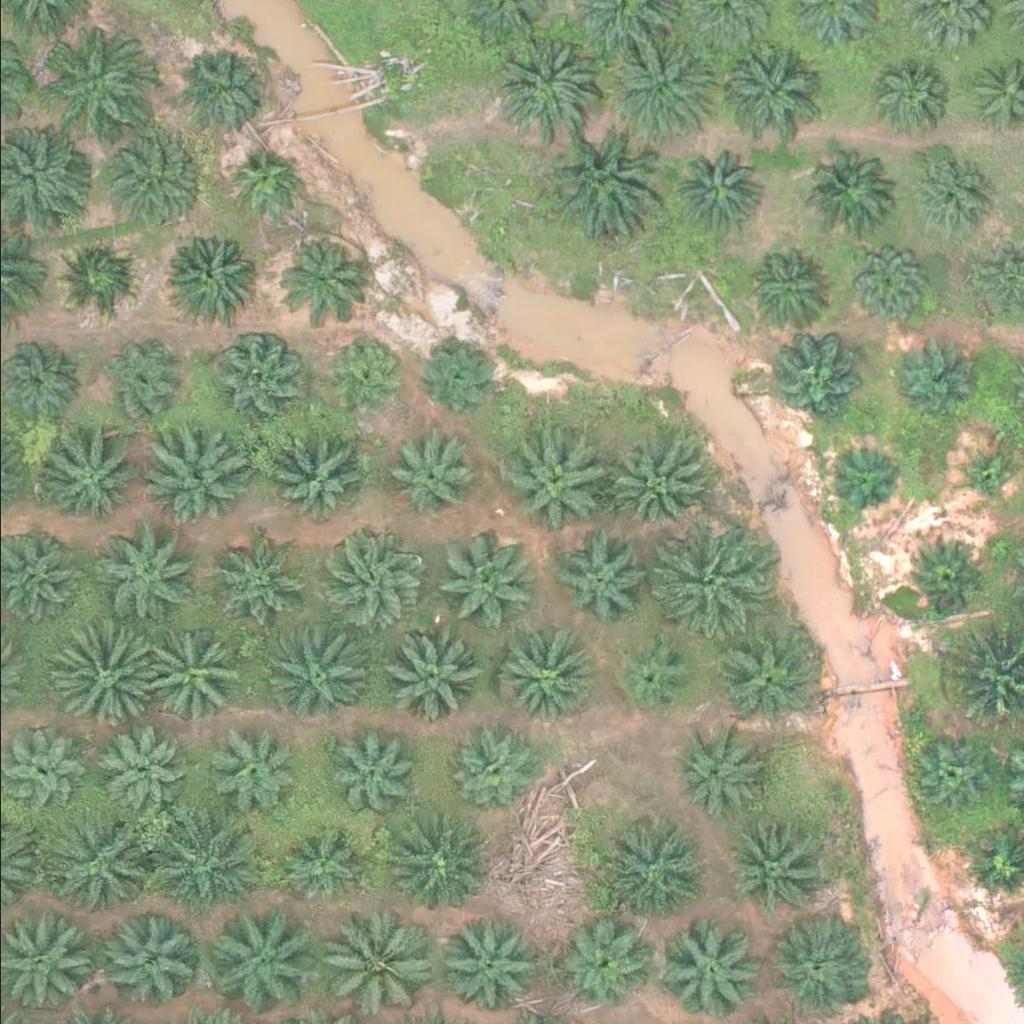Kelapa_Sawit: (649, 525, 763, 638), (200, 902, 313, 1015), (45, 808, 158, 921), (145, 809, 258, 922), (545, 123, 658, 236), (45, 619, 159, 731), (608, 26, 721, 138), (714, 630, 815, 730), (771, 916, 872, 1016), (722, 816, 823, 916), (94, 907, 195, 1007), (134, 630, 235, 730), (86, 522, 187, 622), (40, 429, 141, 529), (40, 23, 141, 123), (436, 918, 537, 1018), (661, 921, 762, 1021), (601, 817, 702, 917), (320, 530, 421, 630), (379, 422, 480, 522), (496, 32, 597, 132), (718, 43, 818, 143), (260, 428, 360, 528), (144, 431, 244, 531), (106, 130, 206, 230), (383, 812, 483, 912), (494, 626, 594, 726), (381, 626, 481, 726), (266, 625, 366, 725), (436, 534, 536, 634), (606, 438, 706, 538), (500, 429, 600, 529), (862, 48, 951, 136), (764, 338, 852, 426), (203, 721, 291, 809), (91, 725, 179, 813), (202, 544, 290, 632), (315, 332, 403, 420), (97, 336, 185, 424), (177, 45, 265, 133), (282, 821, 370, 909), (672, 731, 760, 819), (737, 243, 825, 330), (844, 238, 932, 325), (905, 148, 993, 235), (805, 144, 893, 231), (897, 336, 985, 423), (904, 734, 992, 821), (214, 334, 302, 421), (273, 236, 361, 323), (168, 232, 256, 319), (50, 232, 138, 319), (562, 921, 650, 1008), (328, 728, 416, 815), (451, 725, 539, 812), (551, 535, 639, 622), (414, 334, 502, 421), (668, 149, 756, 236), (223, 148, 299, 223), (908, 536, 984, 611), (614, 639, 690, 714), (826, 442, 901, 517), (949, 443, 1012, 506)
